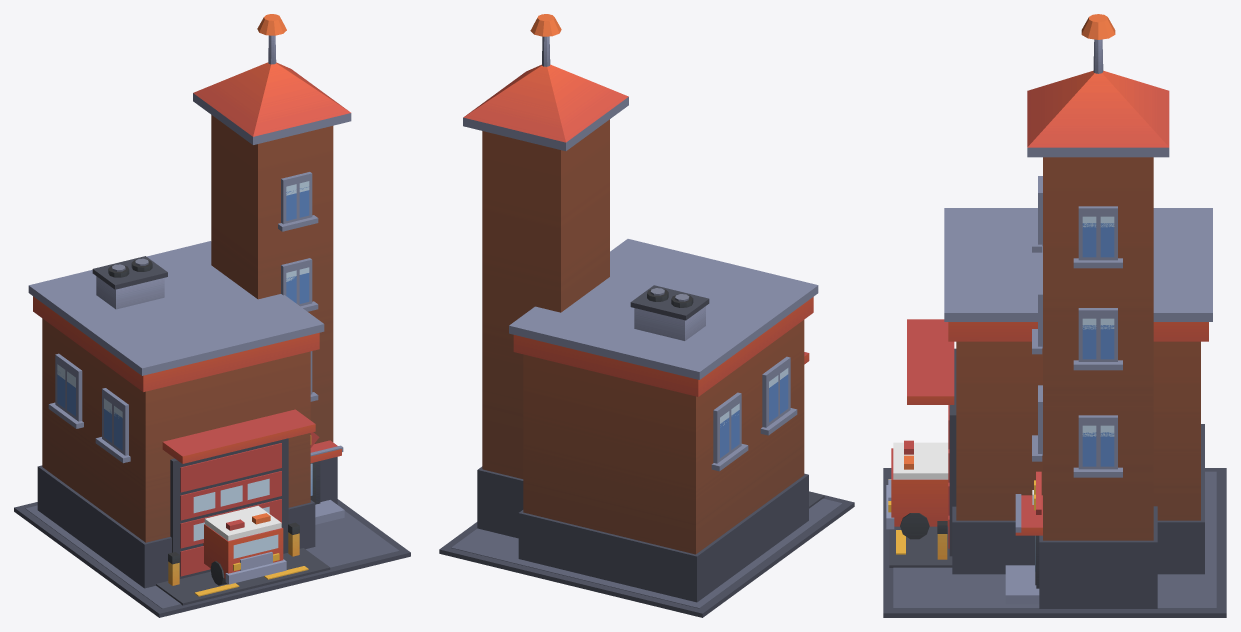
The model's file is fire_station_1x1.glb.
The picture shows the model from 3 angles, left to right: view 1: azimuth 30°, elevation 25°; view 2: azimuth 150°, elevation 25°; view 3: azimuth 270°, elevation 25°; orthographic projection. The views are drawn at different scales.
Visible parts, largest first — view 1: fire_station_1x1; view 2: fire_station_1x1; view 3: fire_station_1x1.
Boxes of the visible parts, bbox=[...] form: fire_station_1x1: bbox=[14, 14, 410, 617]; fire_station_1x1: bbox=[439, 14, 854, 617]; fire_station_1x1: bbox=[883, 14, 1226, 617].
Bounding box in the file's own units: 1.75 × 3.2 × 1.74.
1 material, 1 textured.
